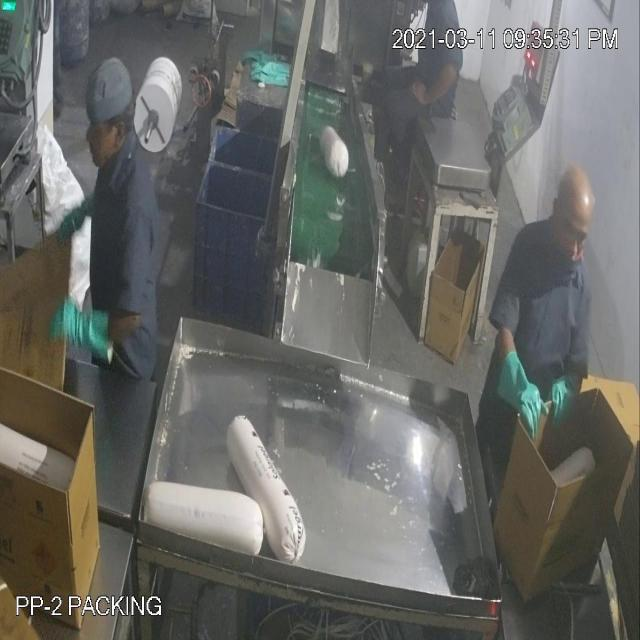No_Gloves: (40, 50, 562, 406)
